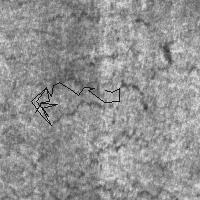crazing: (50, 36, 178, 124), (65, 126, 164, 199), (31, 82, 119, 125)
